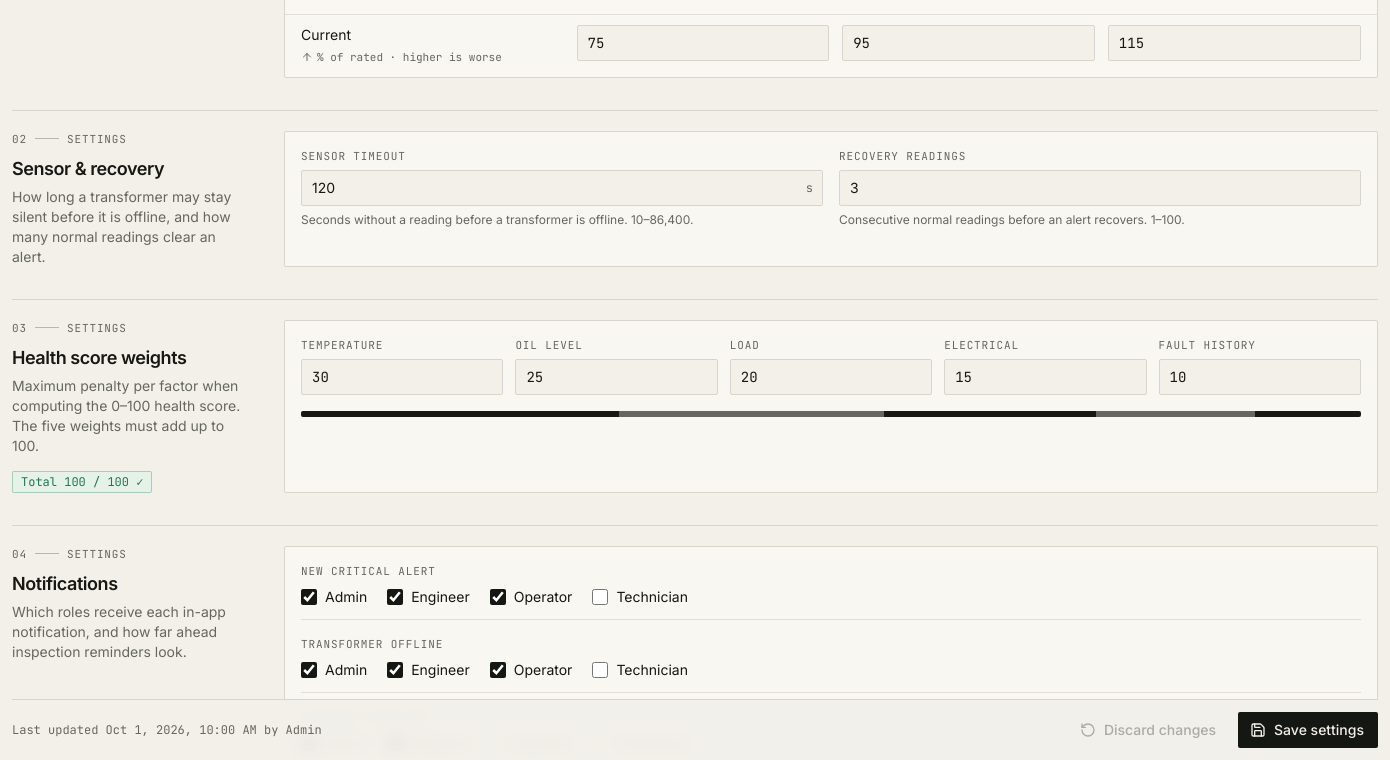
Test: SettingsPage › blocks submit when health weights do not add up to 100
(page scrolled)
Replace the text in the number field labelled "Temperature" with "35": (402, 376) [301, 358, 503, 394]
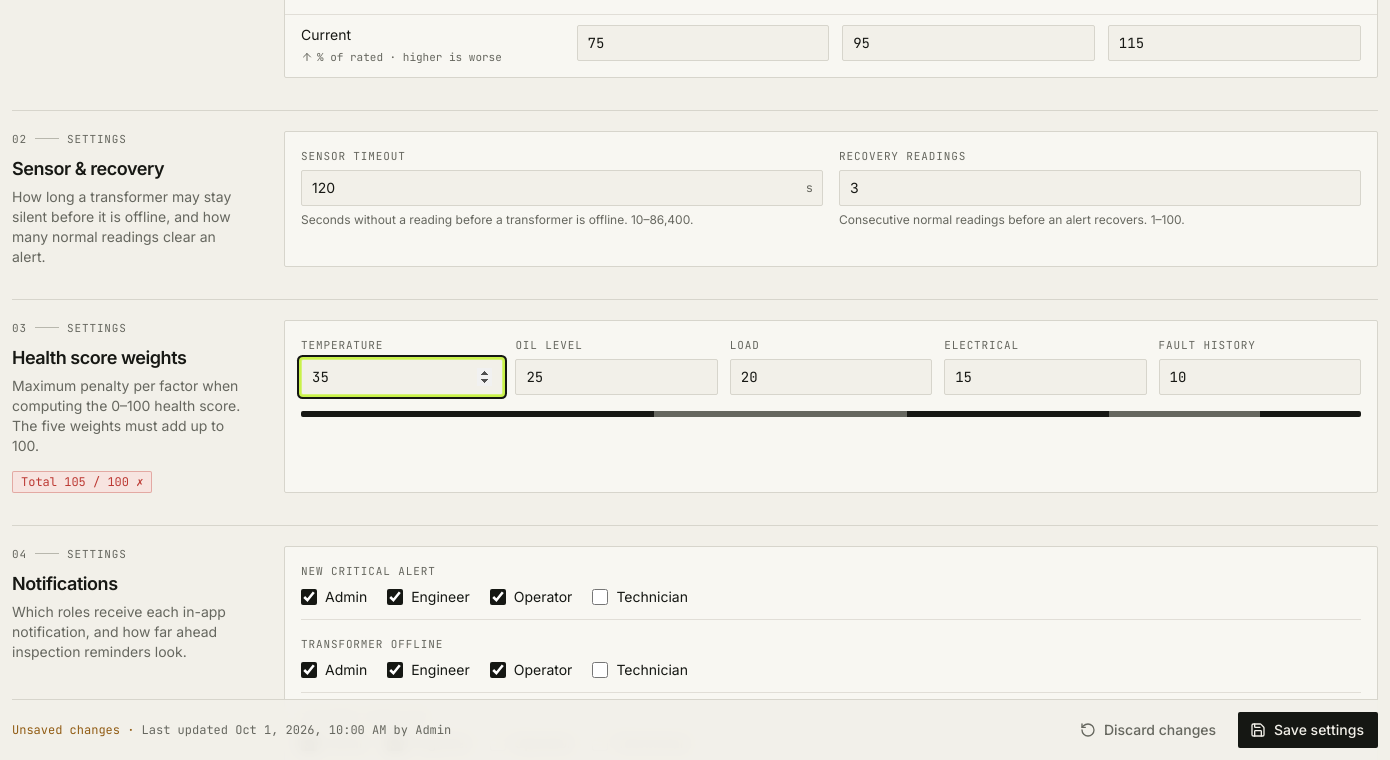
Result: the text "Total 105 / 100 ✗" is shown at [12, 470, 152, 492]
Click the button "Save settings": (1308, 730) [1238, 712, 1378, 748]
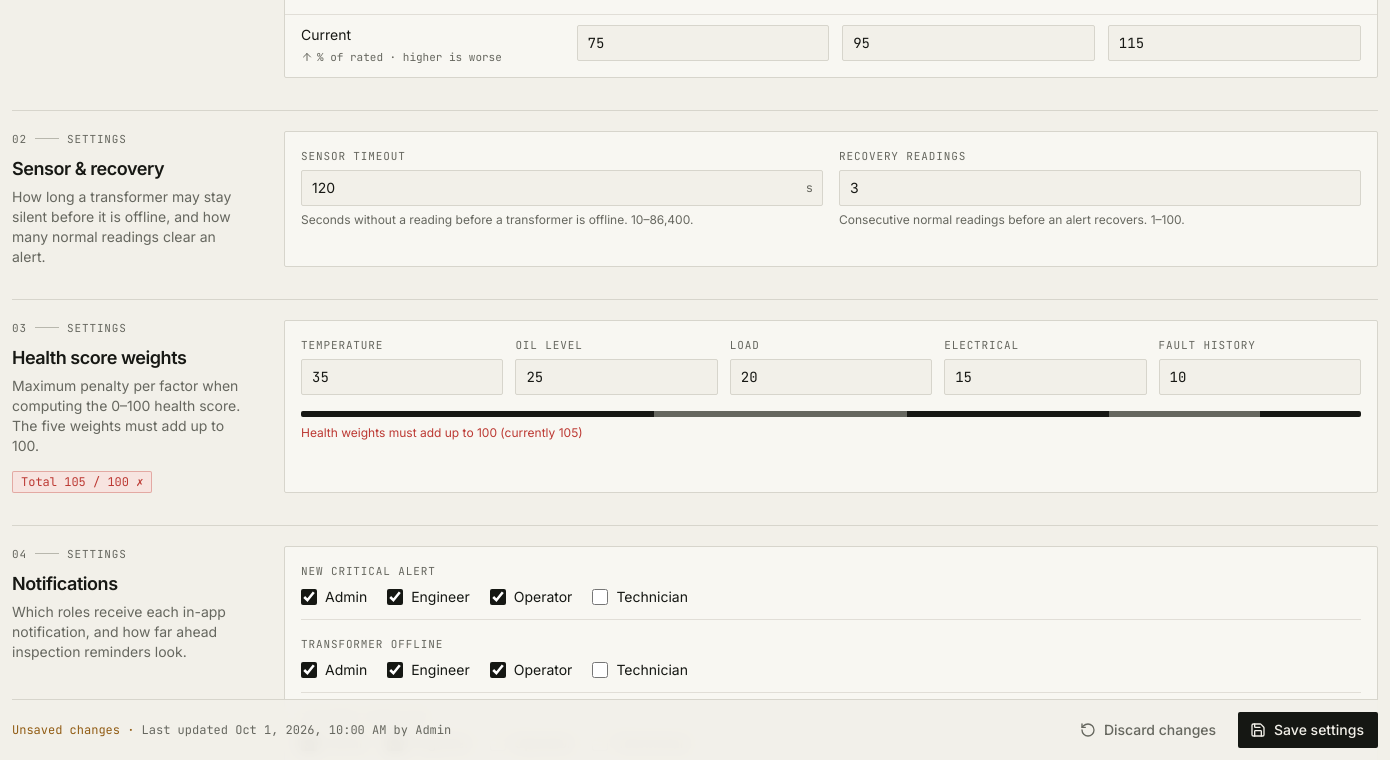
Result: the text "Health weights must add up to 100 (currently 105)" is shown at [301, 424, 583, 440]
